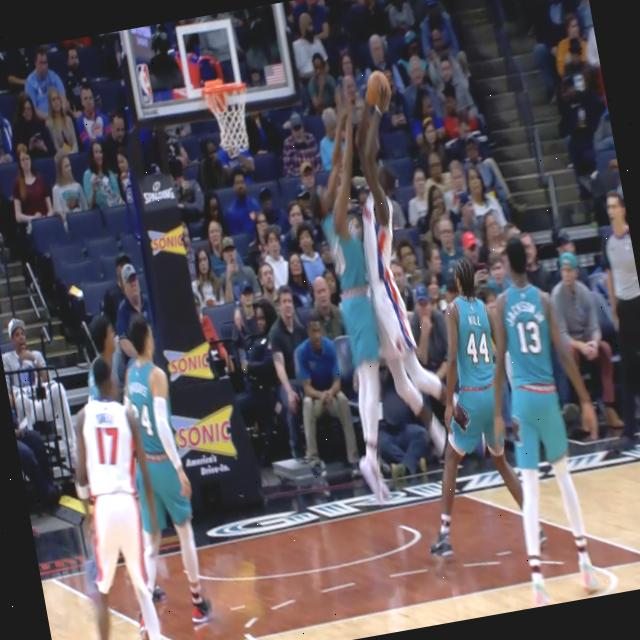foul: (273, 31, 470, 502)
no foul: (468, 230, 612, 608), (394, 242, 544, 575)
